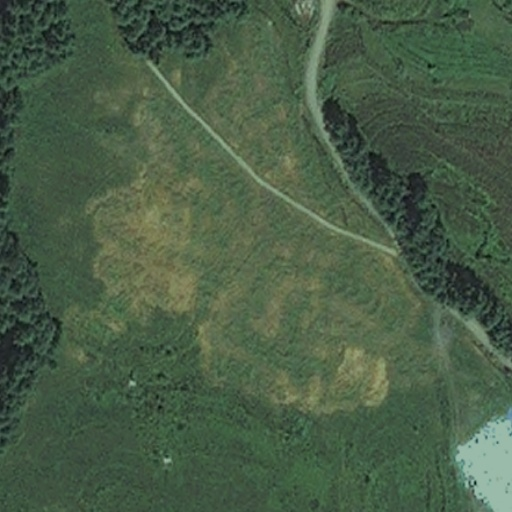landslide: (89, 176, 211, 318)
